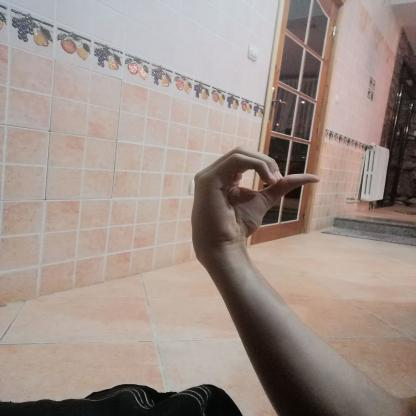WAW: (177, 138, 334, 259)
